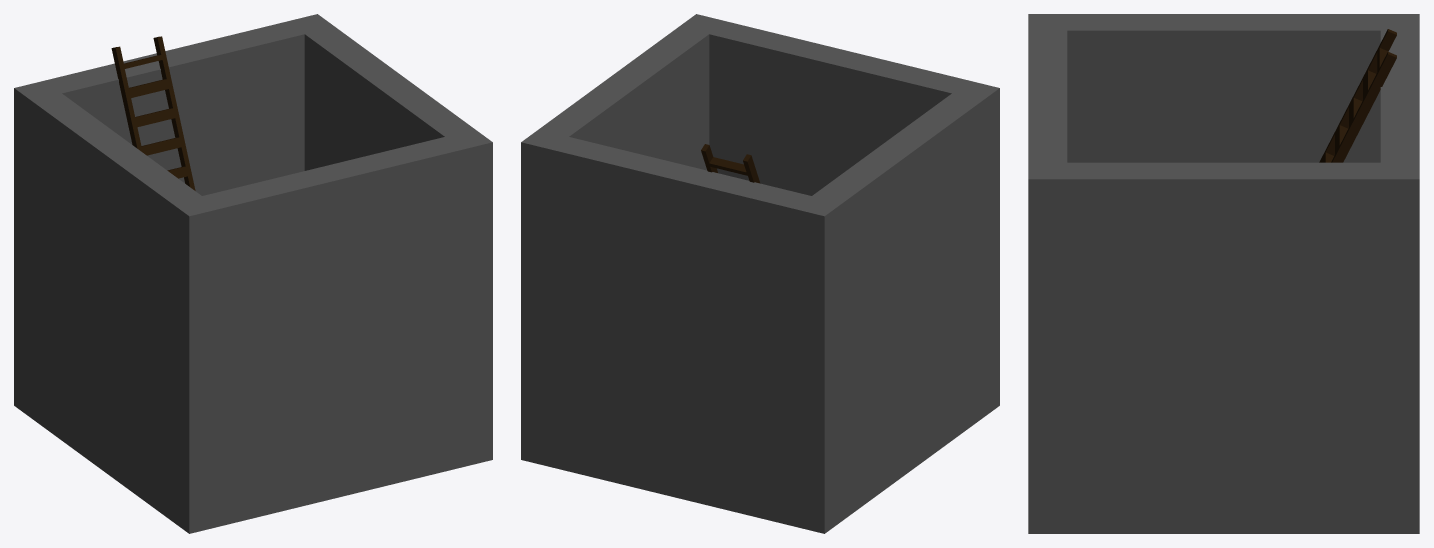
The model's file is Quarry3.obj.
The picture shows the model from 3 angles, left to right: view 1: azimuth 30°, elevation 25°; view 2: azimuth 150°, elevation 25°; view 3: azimuth 270°, elevation 25°; orthographic projection. The views are drawn at different scales.
Visible parts, largest first — view 1: Tilebase120, Ladder001; view 2: Tilebase120, Ladder001; view 3: Tilebase120, Ladder001.
Part boxes in pixels (x1,y1,x2,y2): Tilebase120: (14,14,492,533); Ladder001: (111,36,195,190); Tilebase120: (521,14,999,533); Ladder001: (701,144,760,183); Tilebase120: (1028,14,1419,533); Ladder001: (1319,29,1396,162).
Size of the model in its own units: 10 by 10.92 by 10.
